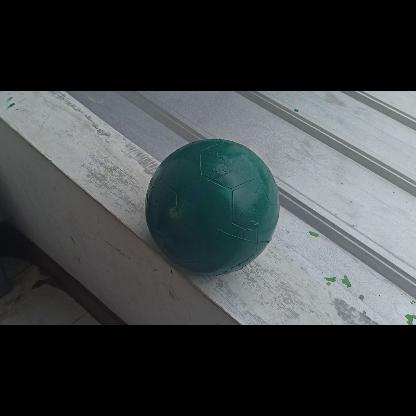green_ball: (147, 140, 281, 274)
